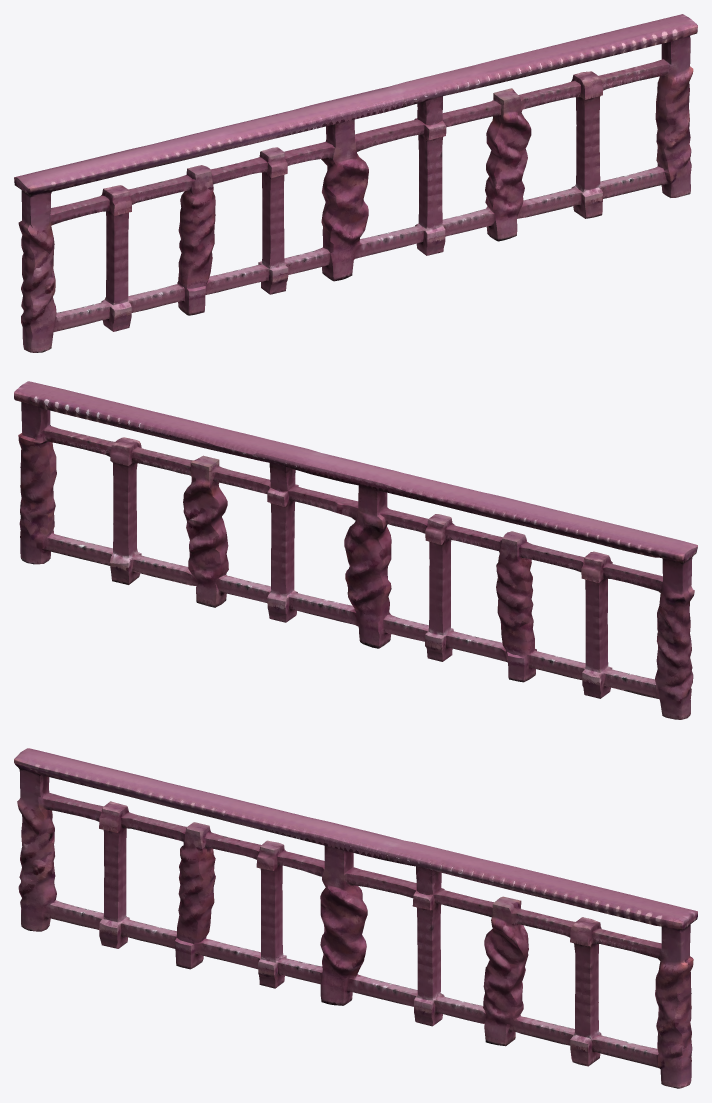
The picture shows the model from 3 angles, top to bottom: view 1: azimuth 30°, elevation 25°; view 2: azimuth 150°, elevation 25°; view 3: azimuth 330°, elevation 25°; orthographic projection.
Parts seen in each view (by area): view 1: railing-red; view 2: railing-red; view 3: railing-red.
Part boxes in pixels (<box>): railing-red: <box>14,14,697,352</box>; railing-red: <box>14,381,697,719</box>; railing-red: <box>14,748,697,1088</box>.
Size of the model in its own units: 4.06 by 0.9989 by 0.1883.
Materials: 1 (1 with a texture image).
